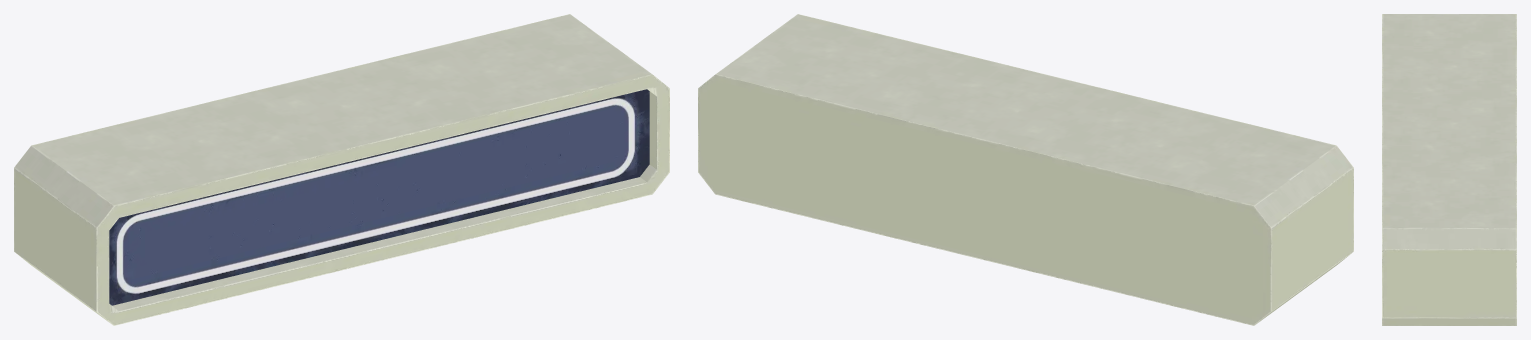
The model's file is udisk.glb.
3 views of the same model, side by side, from view 1: azimuth 30°, elevation 25°; view 2: azimuth 150°, elevation 25°; view 3: azimuth 270°, elevation 25° (orthographic). The views are drawn at different scales.
Parts seen in each view (by area): view 1: M_UDiskStorage_03_Body; view 2: M_UDiskStorage_03_Body; view 3: M_UDiskStorage_03_Body.
Part boxes in pixels (<box>): M_UDiskStorage_03_Body: <box>14,14,669,325</box>; M_UDiskStorage_03_Body: <box>698,14,1353,325</box>; M_UDiskStorage_03_Body: <box>1382,14,1516,325</box>.
Bounding box in the file's own units: 2 × 0.4 × 0.5.
1 material, 1 textured.
